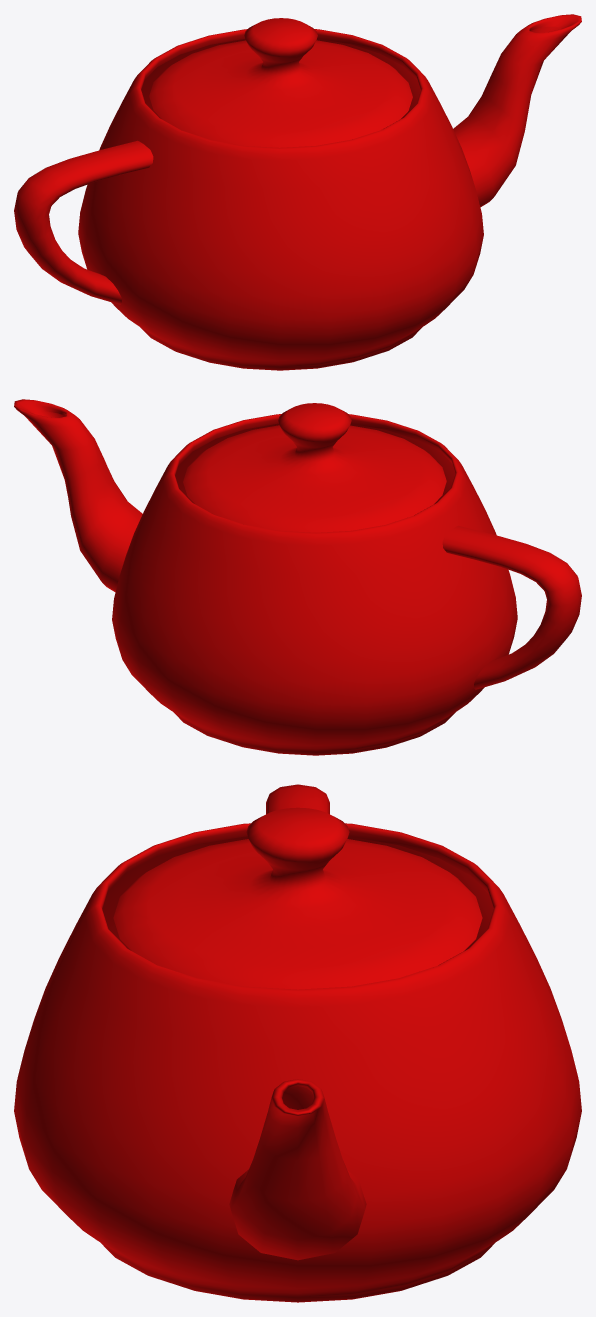
File: Teapot_red.FBX
3 renders of one model, top to bottom at view 1: azimuth 30°, elevation 25°; view 2: azimuth 150°, elevation 25°; view 3: azimuth 270°, elevation 25°, orthographic. The views are drawn at different scales.
Visible parts, largest first — view 1: Teapot001; view 2: Teapot001; view 3: Teapot001.
Part boxes in pixels (x1,y1,x2,y2): Teapot001: (14, 14, 581, 370); Teapot001: (14, 399, 581, 755); Teapot001: (14, 784, 581, 1302).
Size of the model in its own units: 1.61 by 0.7875 by 1.
